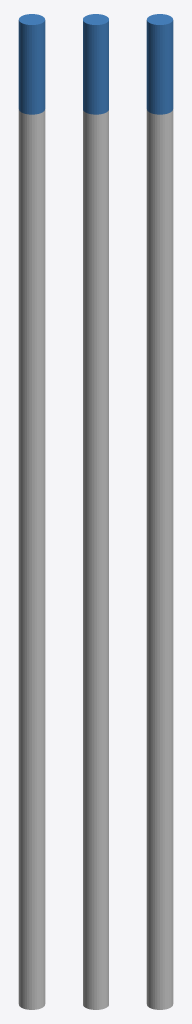
Rendered from 0E3C98fixed.glb.
The picture shows the model from 3 angles, left to right: view 1: azimuth 90°, elevation 25°; view 2: azimuth 150°, elevation 25°; view 3: azimuth 270°, elevation 25°; orthographic projection.
Visible parts, largest first — view 1: Long_Electrode_Body, Long_Electrode_Tip; view 2: Long_Electrode_Body, Long_Electrode_Tip; view 3: Long_Electrode_Body, Long_Electrode_Tip.
Part boxes in pixels (<box>): Long_Electrode_Body: <box>18,109,45,1009</box>; Long_Electrode_Tip: <box>18,14,45,114</box>; Long_Electrode_Body: <box>83,110,108,1009</box>; Long_Electrode_Tip: <box>83,14,108,114</box>; Long_Electrode_Body: <box>146,109,173,1009</box>; Long_Electrode_Tip: <box>146,14,173,114</box>.
Size of the model in its own units: 0.4 by 16.5 by 0.4.
